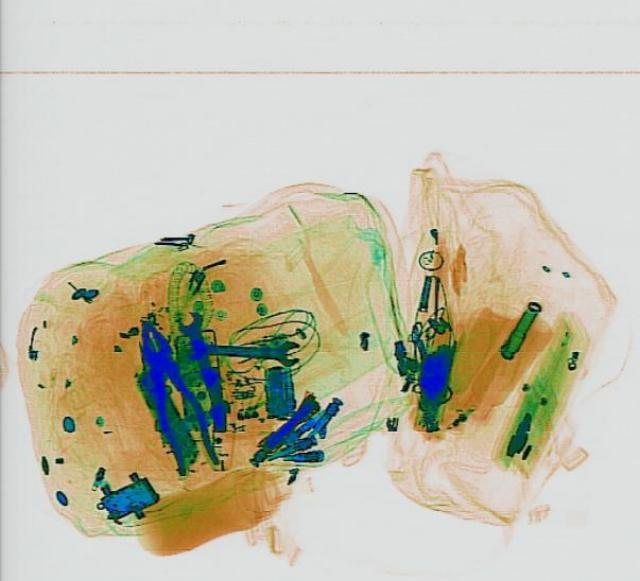Pliers: (117, 313, 223, 476)
Wrench: (168, 307, 236, 418), (188, 333, 296, 366)
